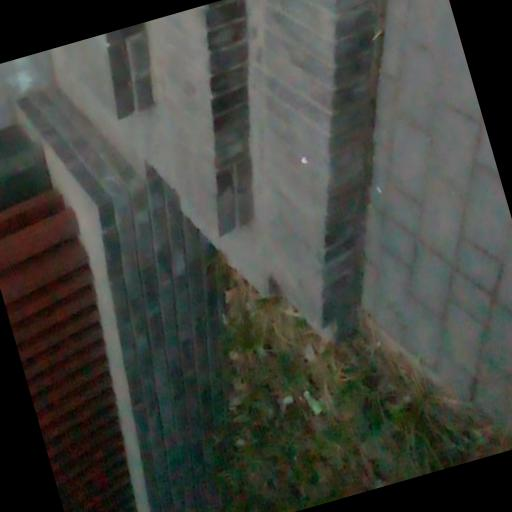stairs: (67, 0, 382, 340), (58, 22, 154, 118)
